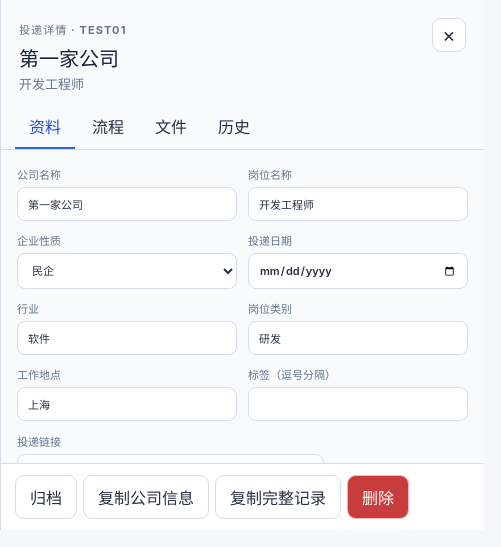
Test: keeps the selected tab while a focused application replaces the detail
The width and height of the screenshot is (501, 547).
Expected: the heading "第一家公司" is shown, [19,43,126,72]
Click the button "文件".
click(171, 127)  # box [141,105,201,149]
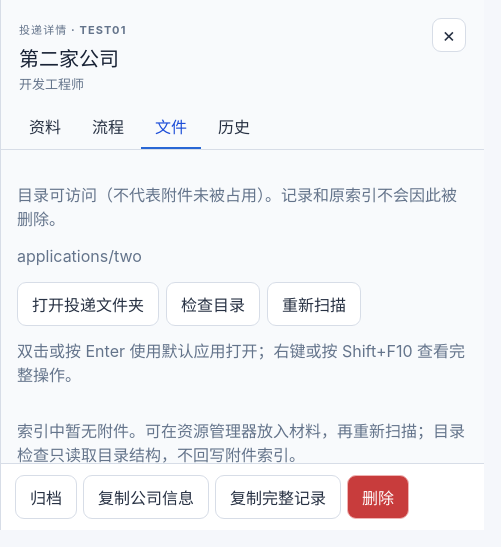
Expected: the heading "第二家公司" is shown, [19,43,126,72]
Expected: the label labelled "公司名称" is gone
